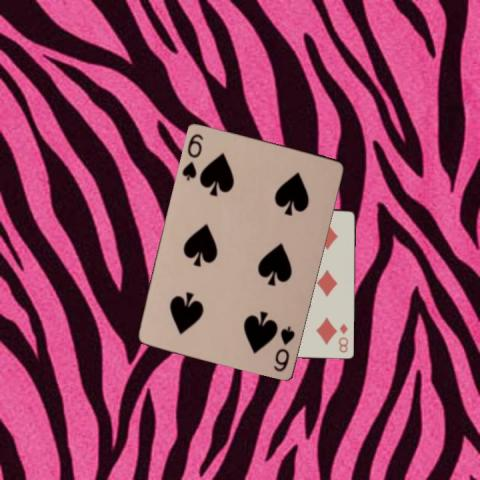6s: (178, 130, 205, 182), (270, 322, 296, 373)
8d: (336, 321, 350, 354)
